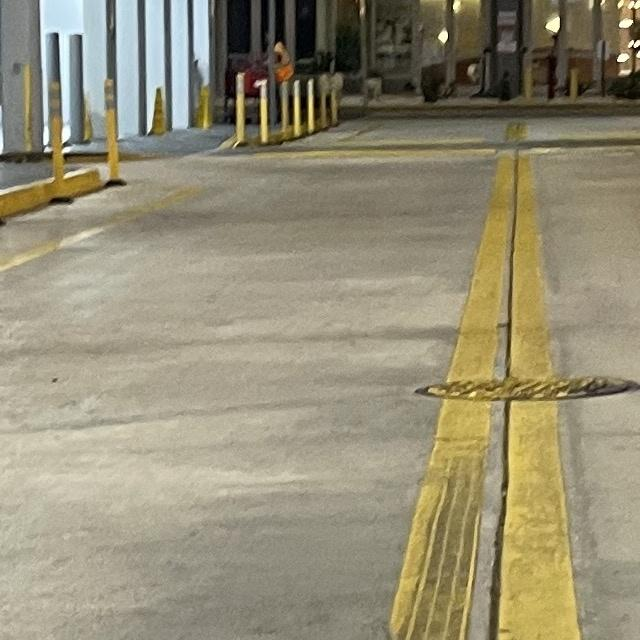curb: (0, 177, 54, 219), (64, 167, 102, 194)
